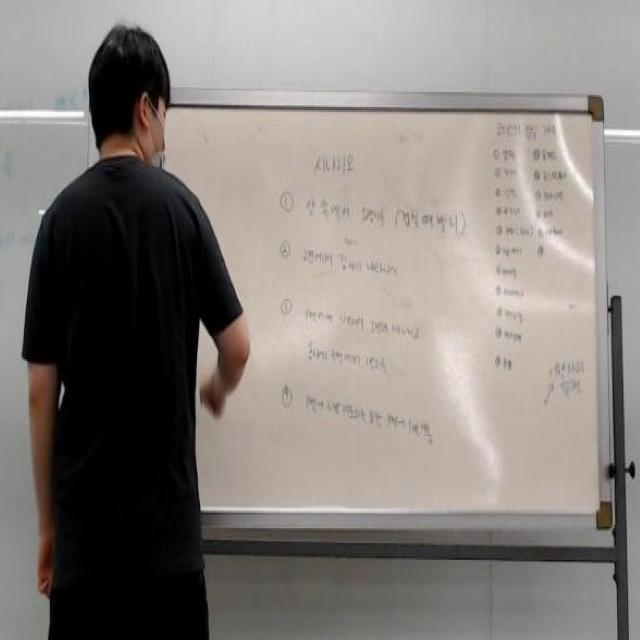Instructor: (51, 22, 215, 601)
White-board: (78, 92, 607, 522)
